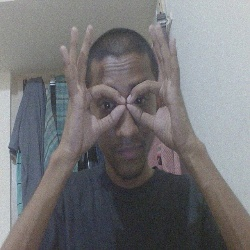hand: (46, 26, 207, 159)
